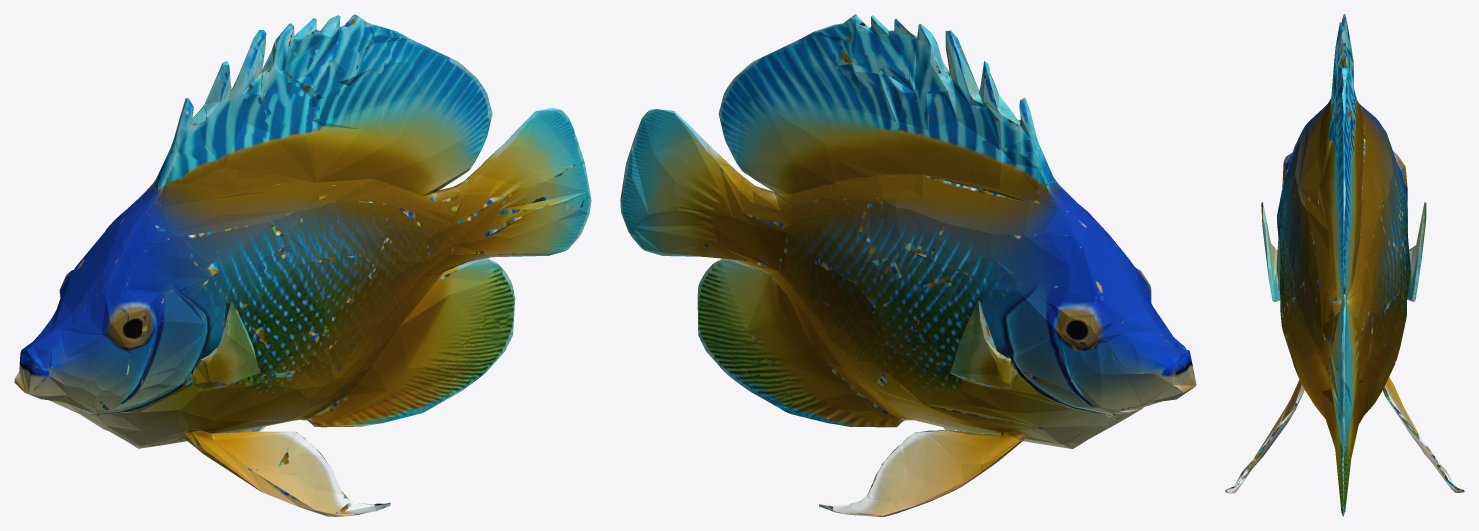
File: fish_0082_smpl23_resized.glb
3 views of the same model, side by side, from view 1: azimuth 30°, elevation 25°; view 2: azimuth 150°, elevation 25°; view 3: azimuth 270°, elevation 25° (orthographic).
Parts seen in each view (by area): view 1: world; view 2: world; view 3: world.
Part boxes in pixels (x1,y1,x2,y2): world: (14,14,591,516); world: (620,14,1196,516); world: (1225,14,1464,516).
Bounding box in the file's own units: 1.99 × 1.52 × 0.7314.
Materials: 1 (1 with a texture image).
